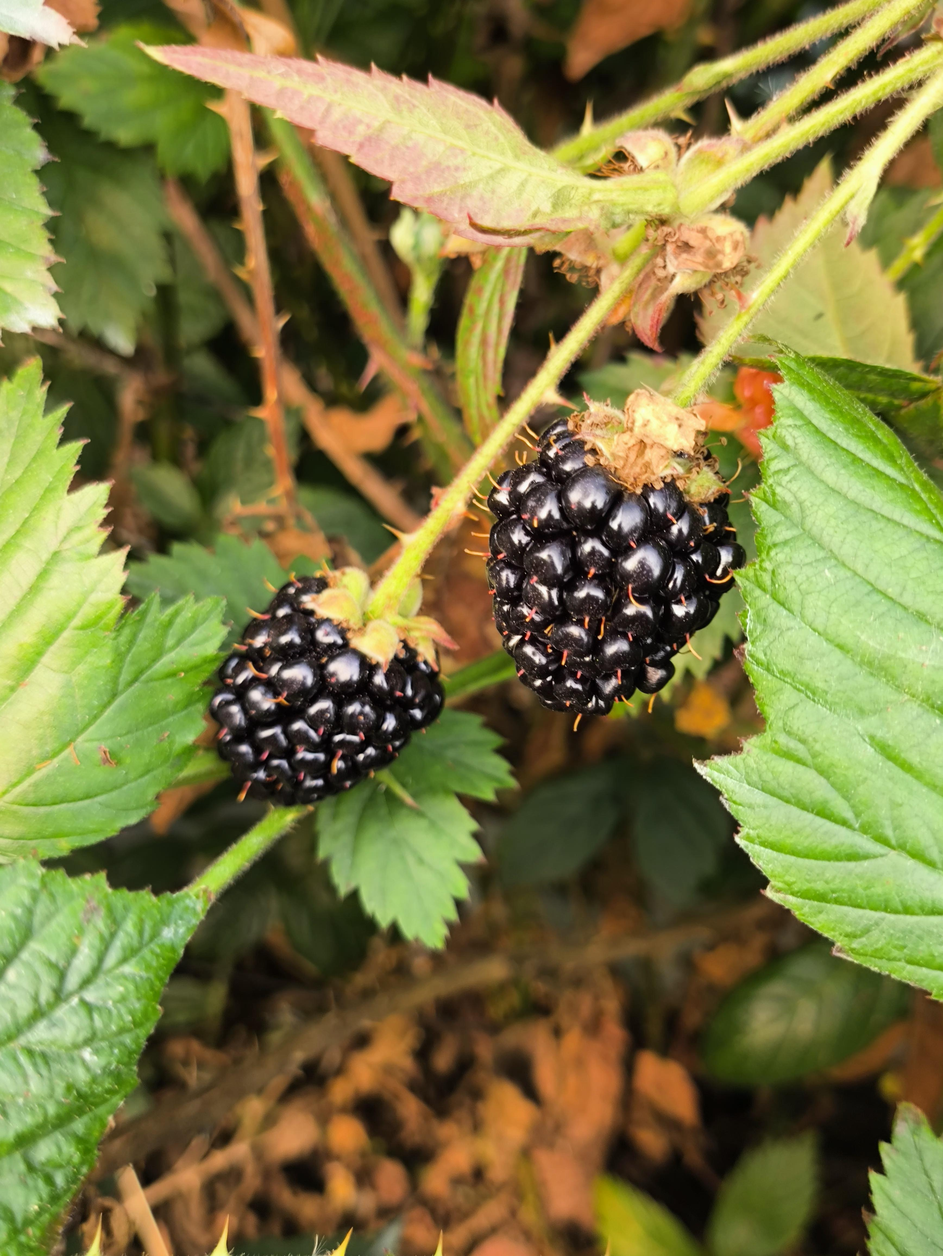maduro: (493, 424, 725, 717), (223, 583, 437, 805)
